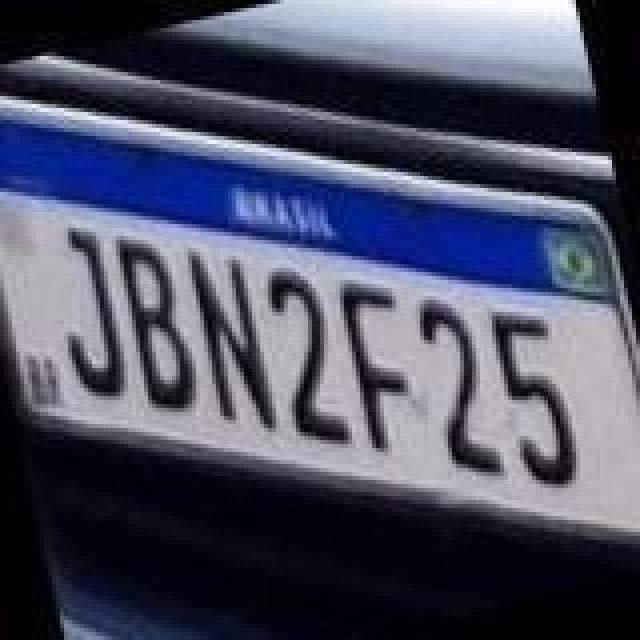2: (260, 258, 364, 462), (410, 290, 510, 494)
5: (482, 294, 590, 498)
B: (112, 226, 208, 414)
F: (332, 268, 436, 460)
J: (38, 218, 138, 406)
N: (180, 232, 284, 440)
